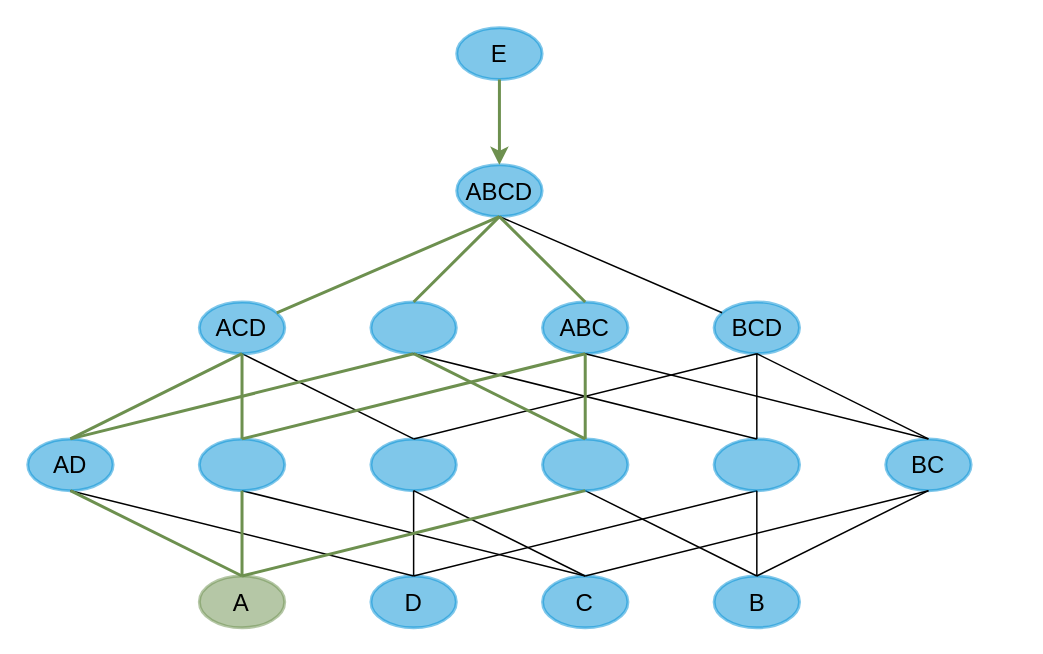
Some shapes in this 1043 by 654 pixel diagram are drawn without their labels. Each missing label, with the centre of its shape:
"AB" goes at (584,464).
"ABD" goes at (413,327).
"AC" goes at (241,464).
"BD" goes at (756,464).
"CD" goes at (413,464).
